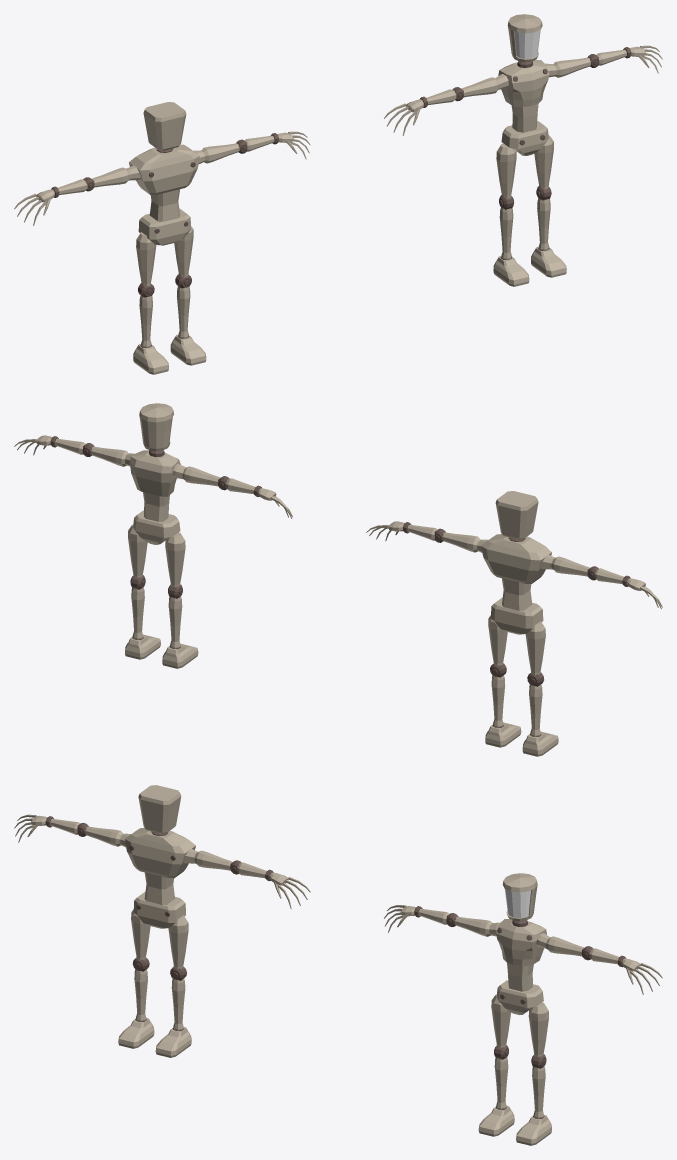
Rendered from dummy02.glb.
3 views of the same model, one above another, from view 1: azimuth 30°, elevation 25°; view 2: azimuth 150°, elevation 25°; view 3: azimuth 330°, elevation 25° (orthographic).
Visible parts, largest first — view 1: chest, chest.001, head, pelvis, pelvis.001, L.upperLeg.001, L.upperLeg, R.upperLeg.001, head.001, abdomen, R.upperLeg, R.foot (+13 smaller); view 2: chest, chest.001, head, head.001, pelvis, pelvis.001, L.upperLeg.001, L.upperLeg, R.upperLeg.001, abdomen, R.upperLeg, abdomen.001 (+12 smaller); view 3: chest, chest.001, head, pelvis, pelvis.001, R.upperLeg.001, R.upperLeg, L.upperLeg.001, head.001, abdomen, L.upperLeg, L.foot (+13 smaller).
Part boxes in pixels (x1,y1,x2,y2): chest: (126,144,204,194); chest.001: (495,60,556,106); head: (143,102,186,150); pelvis: (138,208,191,245); pelvis.001: (501,121,548,155); L.upperLeg.001: (496,143,516,209); L.upperLeg: (136,232,156,297); R.upperLeg.001: (534,135,553,200); head.001: (507,14,542,62); abdomen: (149,189,179,221); R.upperLeg: (174,226,193,288); R.foot: (170,334,206,365); chest: (477,534,555,583); chest.001: (125,450,186,496); head: (495,491,538,539); head.001: (139,403,174,451); pelvis: (491,597,543,634); pelvis.001: (133,510,180,544); L.upperLeg.001: (165,532,185,598); L.upperLeg: (525,621,545,686); R.upperLeg.001: (128,524,147,589); abdomen: (502,578,532,610); R.upperLeg: (488,615,507,677); abdomen.001: (143,492,169,521); chest: (119,828,197,878); chest.001: (489,919,550,965); head: (138,785,181,833); pelvis: (133,891,185,928); pelvis.001: (496,980,543,1014); R.upperLeg.001: (528,1002,548,1068); R.upperLeg: (168,915,188,980); L.upperLeg.001: (491,994,510,1059); head.001: (502,873,537,920); abdomen: (144,872,174,904); L.upperLeg: (131,909,150,971); L.foot: (118,1018,154,1048).
Size of the model in its own units: 4.77 by 1.77 by 0.312.
